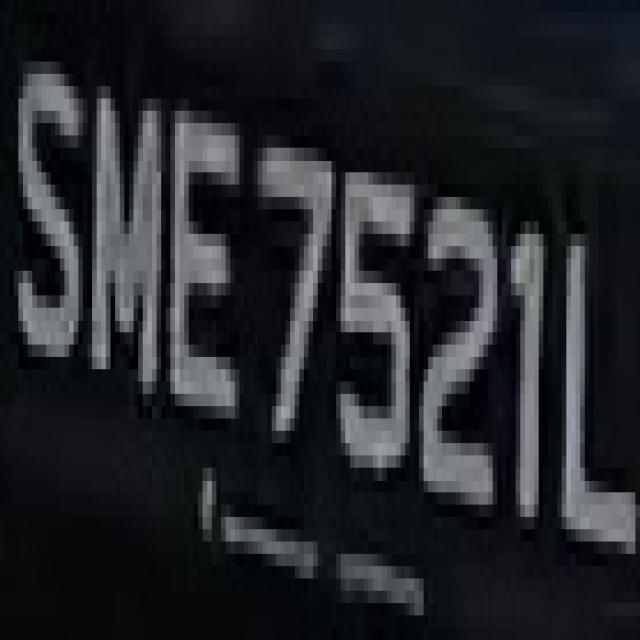1: (502, 148, 552, 554)
2: (405, 160, 507, 566)
5: (322, 123, 419, 505)
7: (249, 74, 336, 492)
E: (166, 87, 239, 456)
L: (548, 184, 640, 616)
M: (78, 37, 170, 418)
S: (9, 24, 83, 382)
